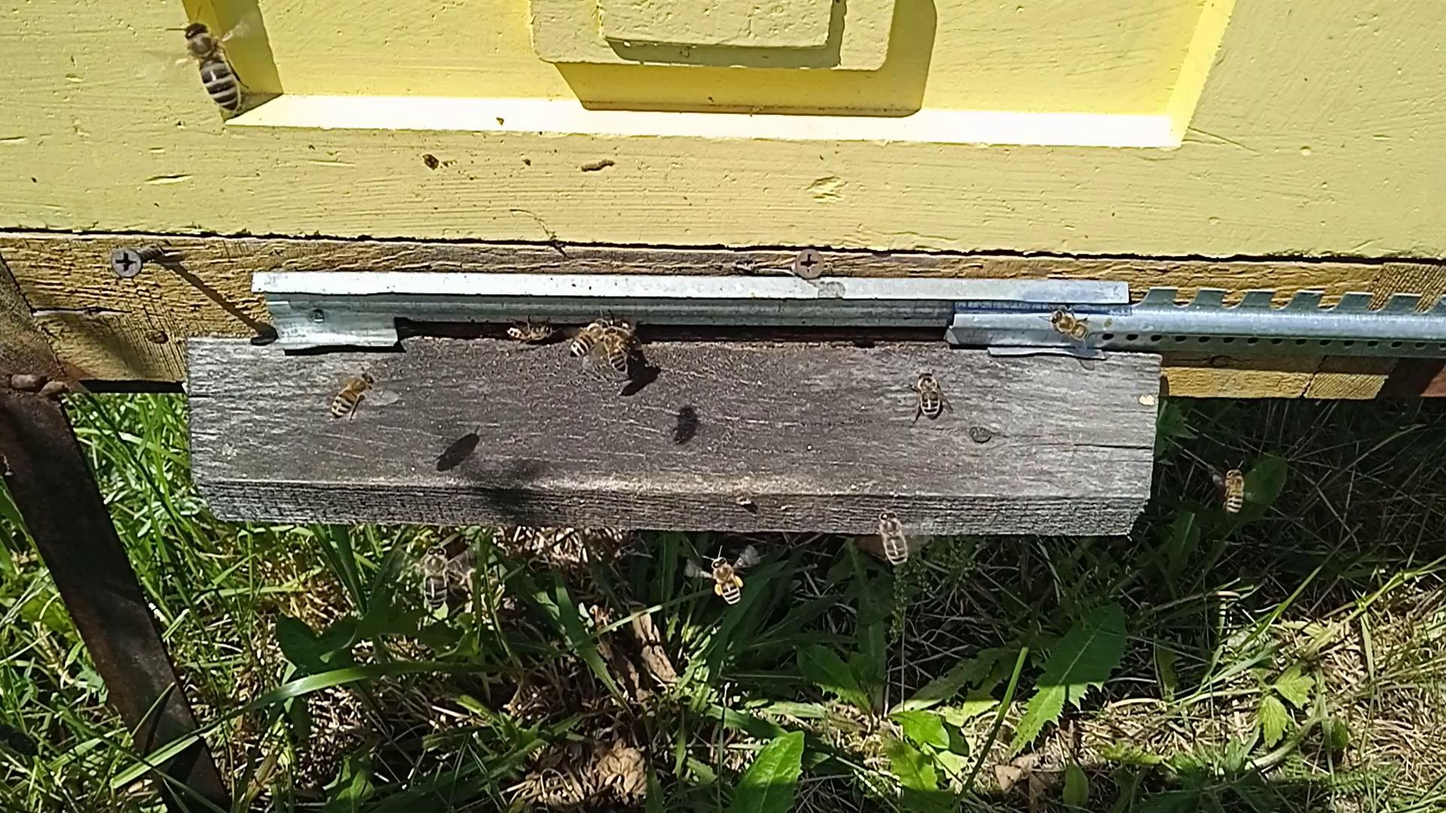worker-bee: (182, 20, 245, 114), (329, 371, 377, 419), (877, 509, 910, 567), (422, 545, 450, 611), (708, 555, 744, 606), (569, 317, 612, 356), (1, 722, 41, 758), (914, 370, 942, 419), (1050, 308, 1091, 341), (601, 330, 631, 374), (505, 321, 557, 343), (1223, 467, 1246, 515), (605, 324, 639, 350)
